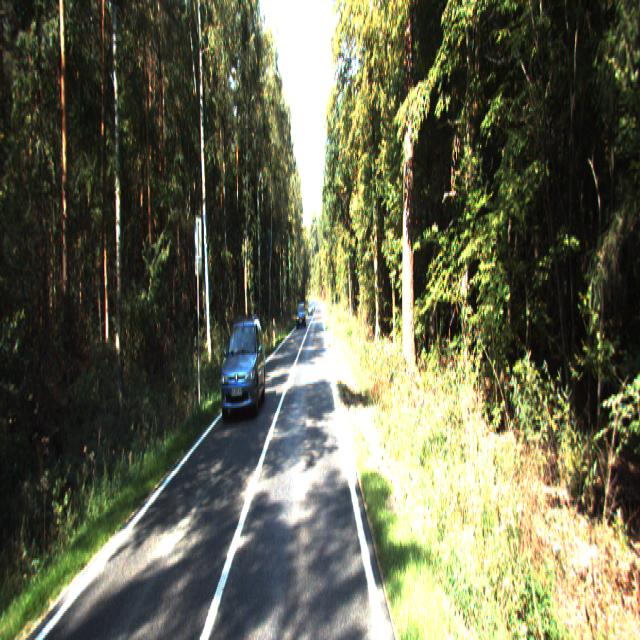Car: (219, 312, 268, 423)
